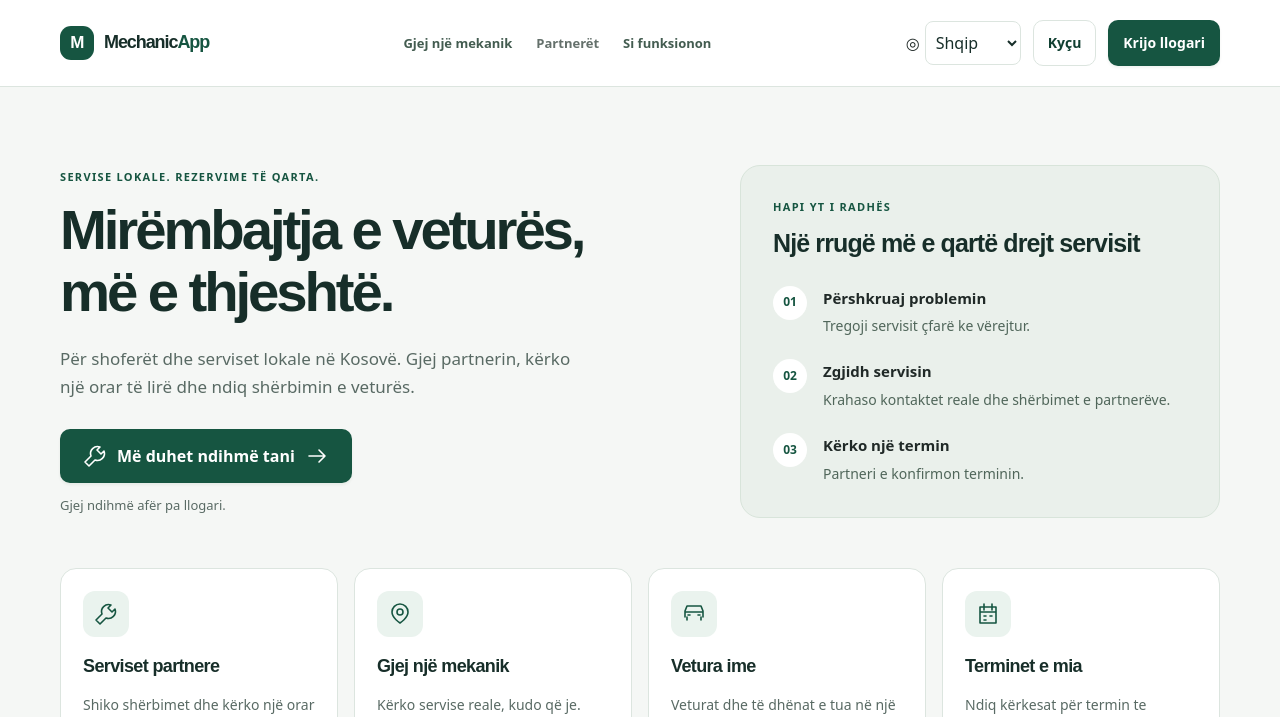
Scenario: App public access › opens registration directly from the public page
What coordinates should you click on to do the following:
click the button "Krijo llogari"
I would click on:
 (1164, 43)
Its box is 1108,20 -> 1220,66.
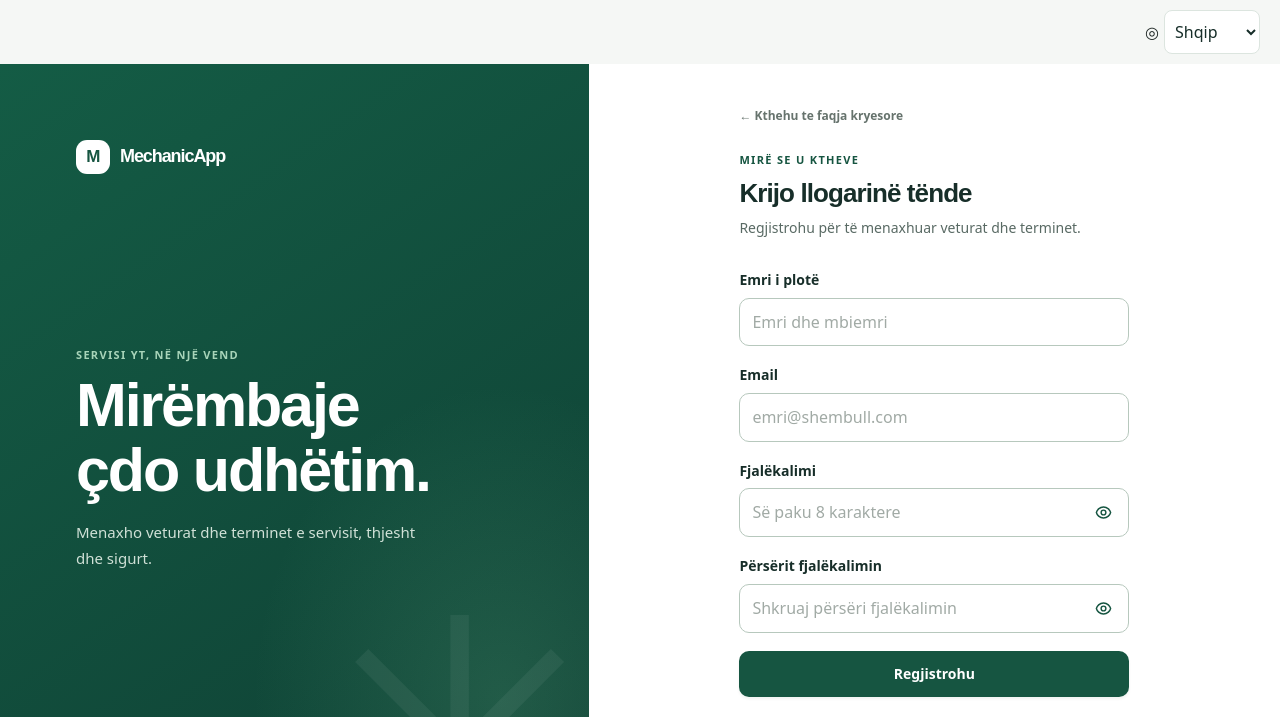
Expected: the heading "Krijo llogarinë tënde" is shown, 739,178 -> 972,208
Expected: the field labelled "Emri i plotë" is shown, 739,298 -> 1129,346
